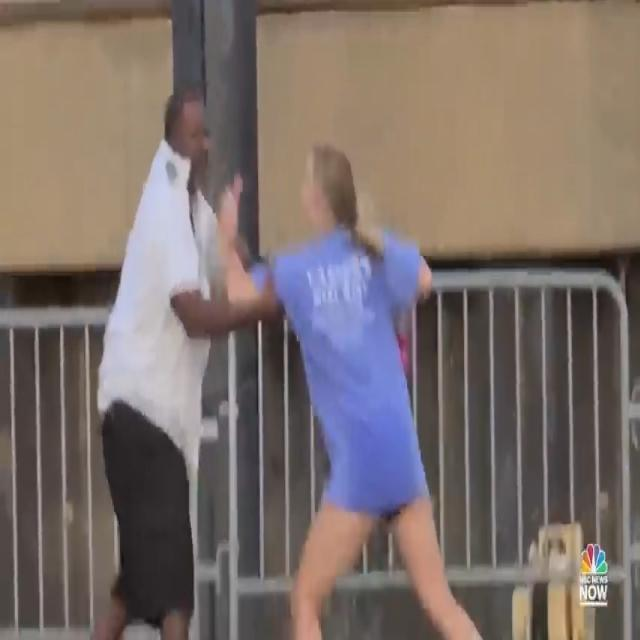fight: (80, 50, 487, 640)
